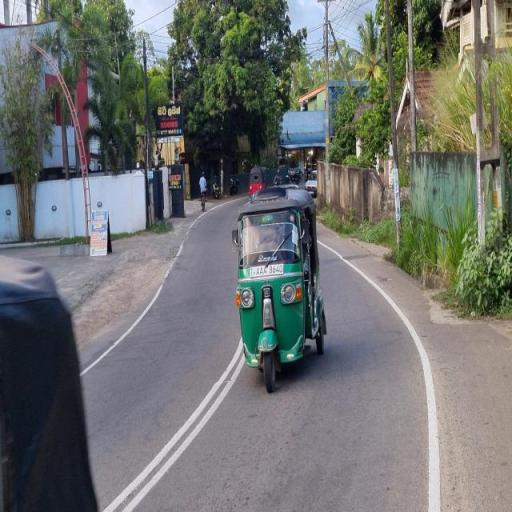double_white_line: (102, 343, 242, 512)
